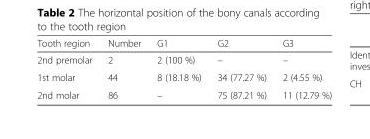table: (36, 37, 331, 100)
table column: (208, 37, 273, 100), (36, 37, 99, 100), (148, 37, 208, 100), (273, 37, 331, 100), (99, 37, 148, 100)
table column header: (36, 37, 331, 51)
table row: (36, 51, 331, 68), (36, 68, 331, 85), (36, 85, 331, 100), (36, 37, 331, 51)
